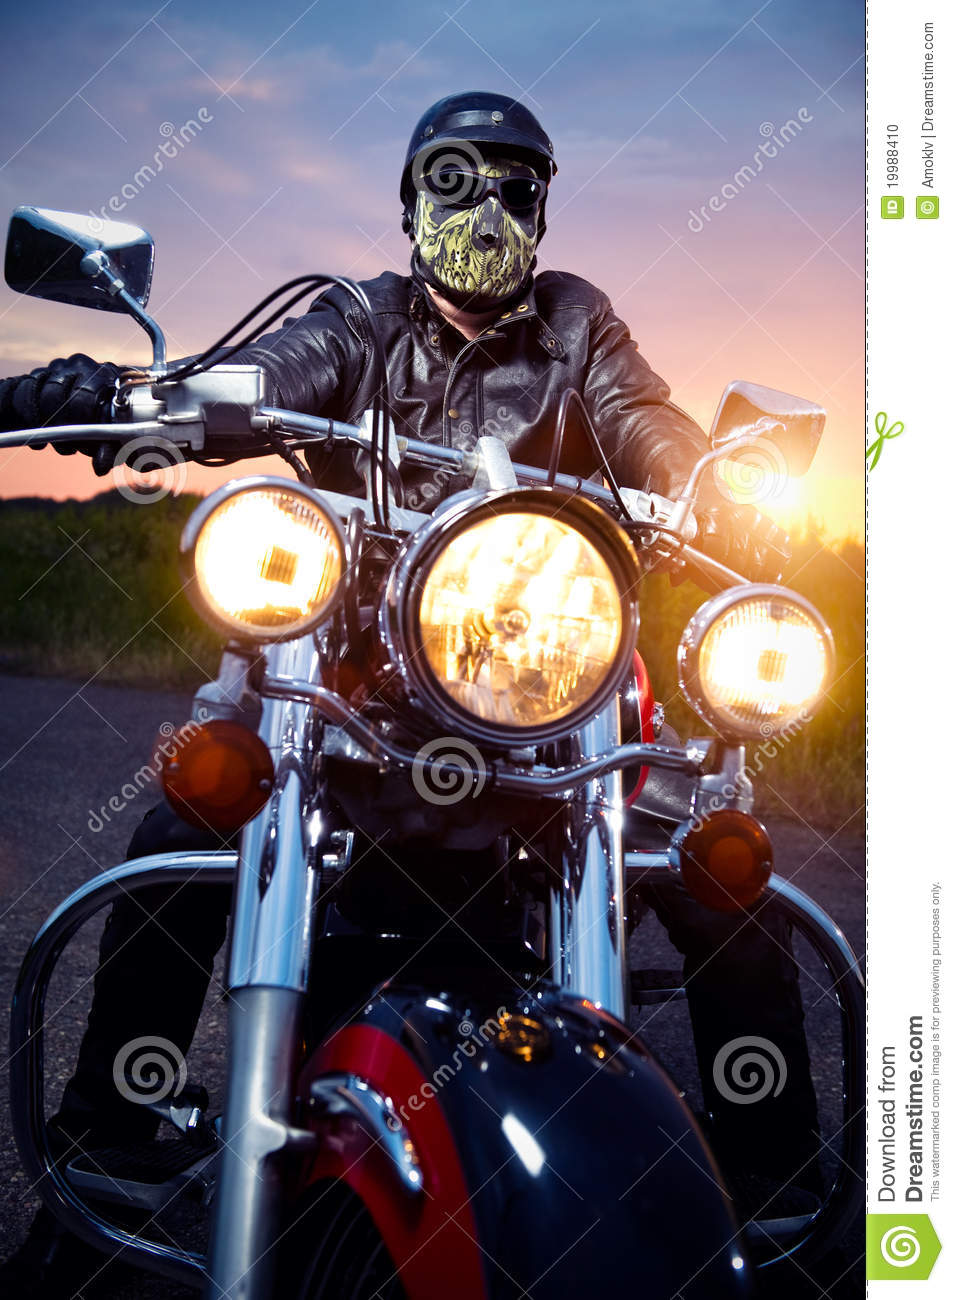helmet: (395, 89, 557, 313)
